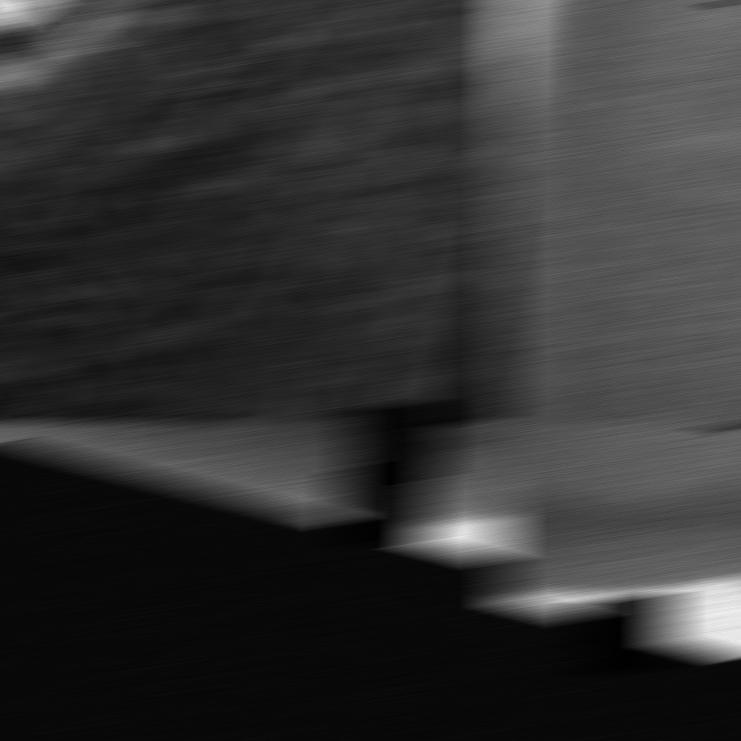AirbagV2: (0, 1, 514, 420), (492, 1, 741, 420), (0, 423, 514, 572), (492, 423, 741, 680)
